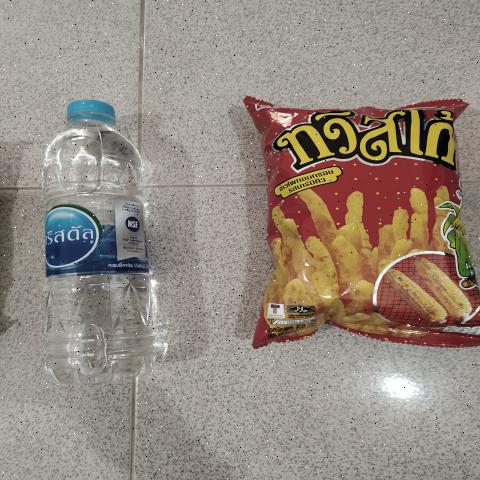crystal: (45, 102, 152, 383)
twisco: (270, 110, 468, 337)
